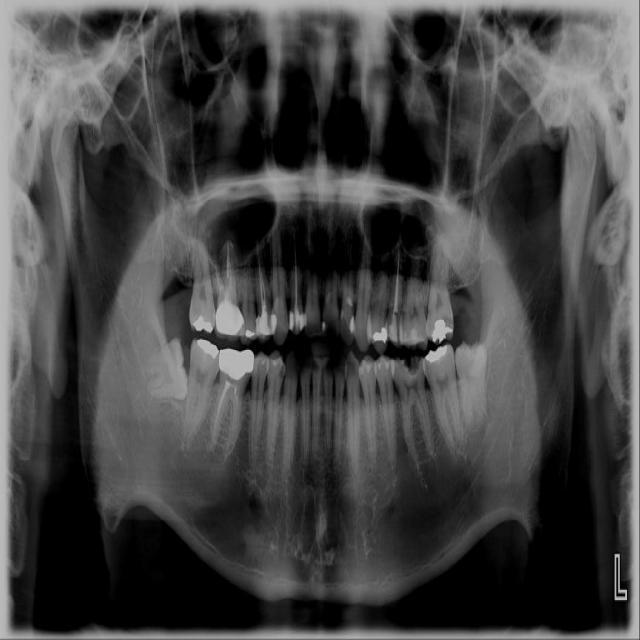52: (420, 343, 458, 390), (216, 347, 255, 391), (213, 297, 246, 342), (189, 337, 222, 382), (398, 305, 429, 352), (188, 290, 218, 335), (426, 298, 453, 344), (366, 309, 388, 354), (270, 297, 289, 346), (321, 298, 341, 340), (265, 350, 287, 388), (384, 309, 405, 348), (257, 302, 276, 344), (249, 351, 270, 389), (339, 296, 355, 345), (303, 299, 322, 338), (240, 308, 259, 345), (373, 355, 394, 388), (358, 355, 376, 393), (401, 352, 426, 378), (289, 297, 304, 334), (442, 316, 456, 340), (279, 363, 285, 378)
73: (206, 376, 247, 454), (212, 232, 239, 309), (249, 235, 272, 308), (388, 238, 409, 315), (289, 222, 302, 299), (614, 568, 621, 576)
BioHorizons Implant: (426, 230, 454, 343)
Biomet 3i Implant: (454, 340, 487, 430)
Blue Sky Bio Implant: (420, 343, 465, 454)
Caries: (188, 218, 218, 335)
Implant: (182, 338, 223, 445)
Keystone Dental Implant: (145, 337, 189, 401)
